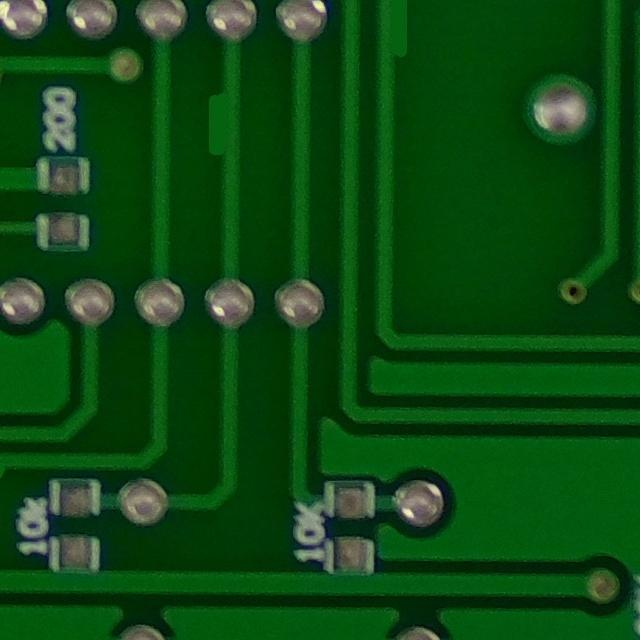spur: (190, 83, 254, 168), (374, 0, 421, 79)
